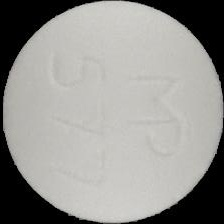53808-0862: (0, 0, 224, 224)
